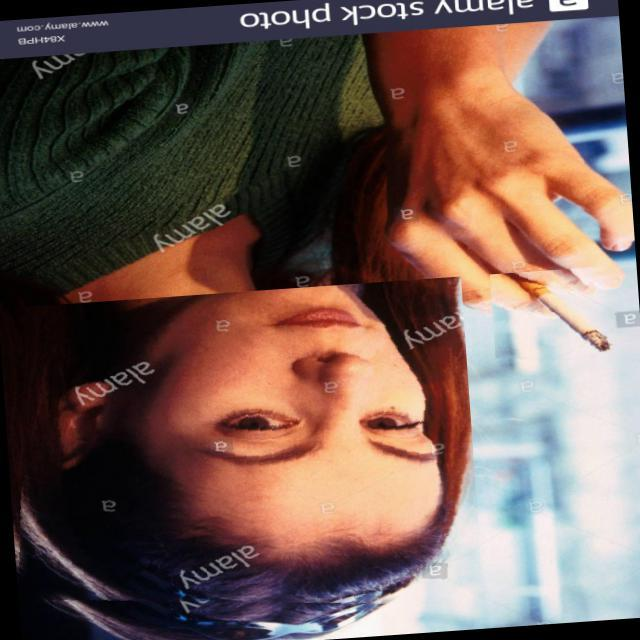cigarette: (490, 266, 624, 373)
